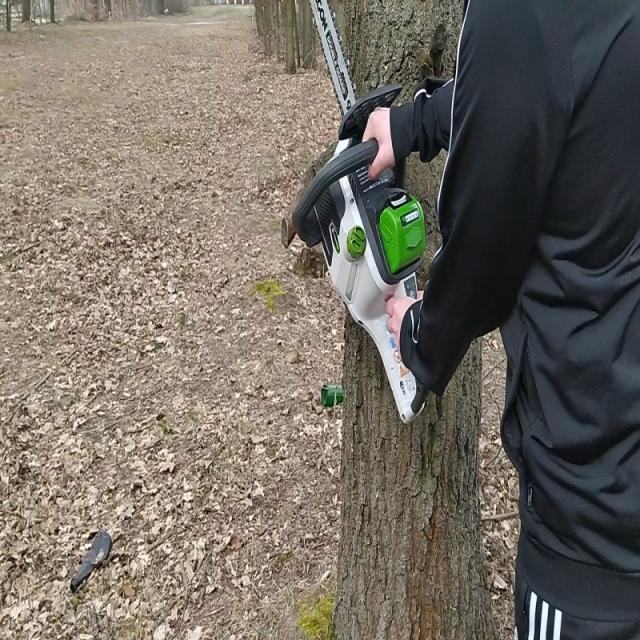Chainsaw: (286, 0, 446, 433)
